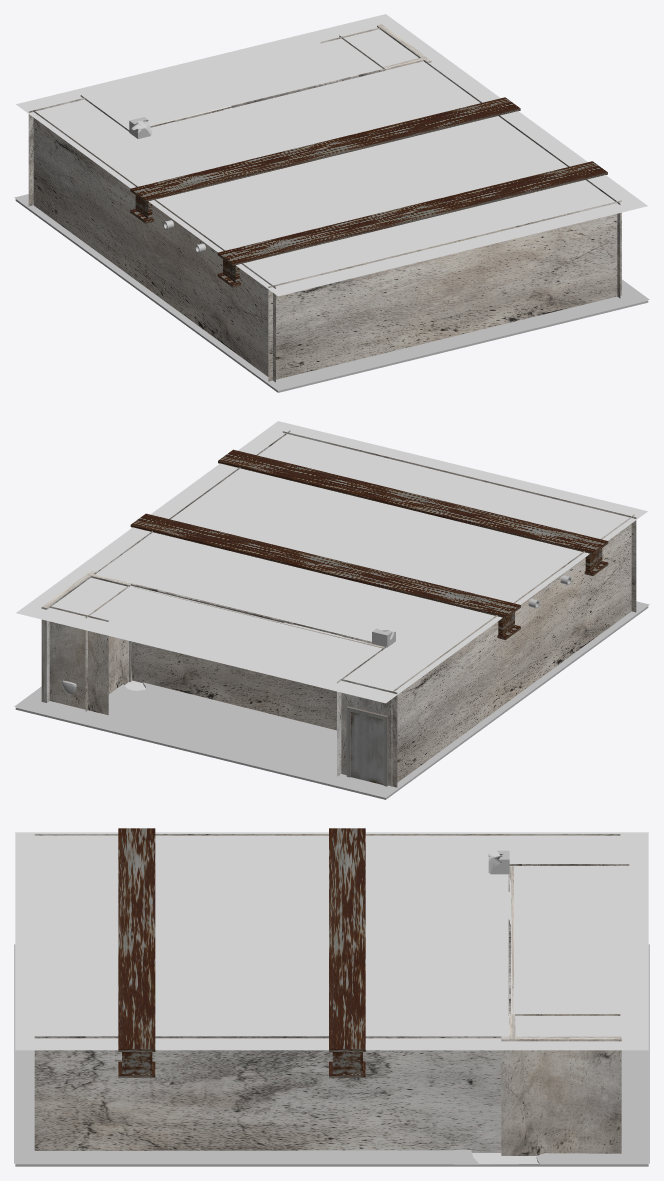
File: basementtwentyone.fbx
The picture shows the model from 3 angles, top to bottom: view 1: azimuth 30°, elevation 25°; view 2: azimuth 150°, elevation 25°; view 3: azimuth 270°, elevation 25°; orthographic projection. The views are drawn at different scales.
Parts seen in each view (by area): view 1: Plane.001, Cube.004, Cube, Plane, Cube.012, Cube.011, Cube.005, Cube.001; view 2: Plane.001, Cube, Plane, Cube.003, Cube.011, Cube.012, Cube.008, 对象001, Cube.001, Cube.006, Cube.004, Cube.007 (+1 smaller); view 3: Plane.001, Cube.005, Plane, Cube.007, Cube.011, Cube.012, Cube, Cube.003, Cube.009.
Part boxes in pixels (box(x1,y1,x2,y2)): Plane.001: box(16, 14, 647, 296); Cube.004: box(268, 200, 621, 381); Cube: box(33, 110, 275, 382); Plane: box(14, 194, 649, 392); Cube.012: box(130, 97, 520, 223); Cube.011: box(217, 161, 607, 287); Cube.005: box(426, 62, 620, 298); Cube.001: box(28, 98, 84, 206); Plane.001: box(16, 421, 647, 703); Cube: box(391, 514, 634, 786); Plane: box(14, 601, 649, 799); Cube.003: box(134, 584, 384, 730); Cube.011: box(218, 449, 608, 575); Cube.012: box(130, 513, 520, 639); Cube.008: box(49, 606, 108, 715); 对象001: box(346, 706, 388, 786); Cube.001: box(341, 679, 397, 787); Cube.006: box(85, 585, 128, 711); Cube.004: box(282, 431, 636, 612); Cube.007: box(41, 570, 96, 702); Plane.001: box(15, 832, 648, 1050); Cube.005: box(34, 1036, 501, 1152); Plane: box(14, 944, 649, 1166); Cube.007: box(501, 1036, 621, 1155); Cube.011: box(118, 828, 155, 1077); Cube.012: box(329, 828, 365, 1077); Cube: box(34, 834, 620, 835); Cube.003: box(508, 866, 513, 1013); Cube.009: box(488, 850, 509, 874).
Bounding box in the file's own units: 13.2 × 3.66 × 16.08.
